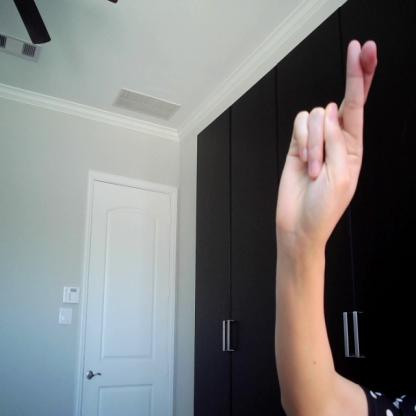R: (270, 40, 383, 233)
